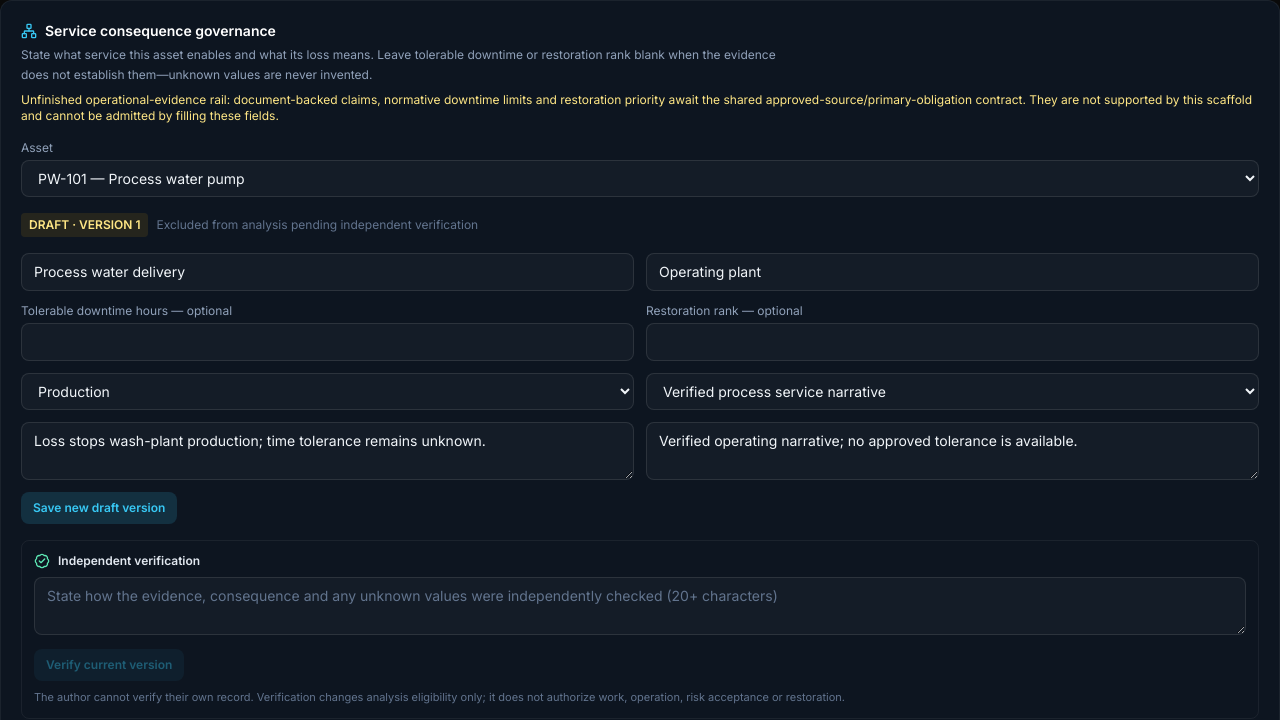
Test: ServiceLevelGovernancePanel › retains a known committed receipt rather than calling a refresh failure an unknown write
Expected: the text "Excluded from analysis pending independent verification" is shown, [156,217,478,233]
Expected: the field named "Service name" holds "Process water delivery", [21,253,634,291]
Replace the text in the text box named "Independent review note" with "Independent operations review against exact draft.": (640, 606) [34,577,1246,635]
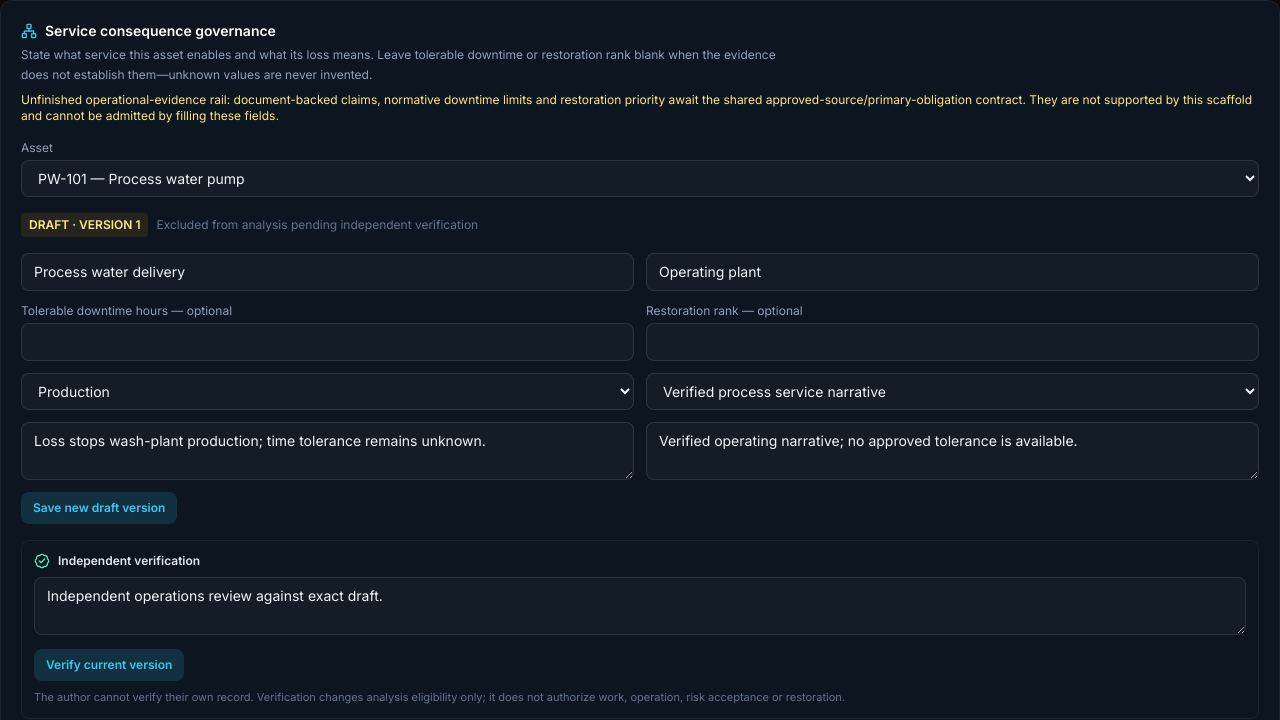
Click the button "Verify current version": (109, 665) [34,649,184,681]
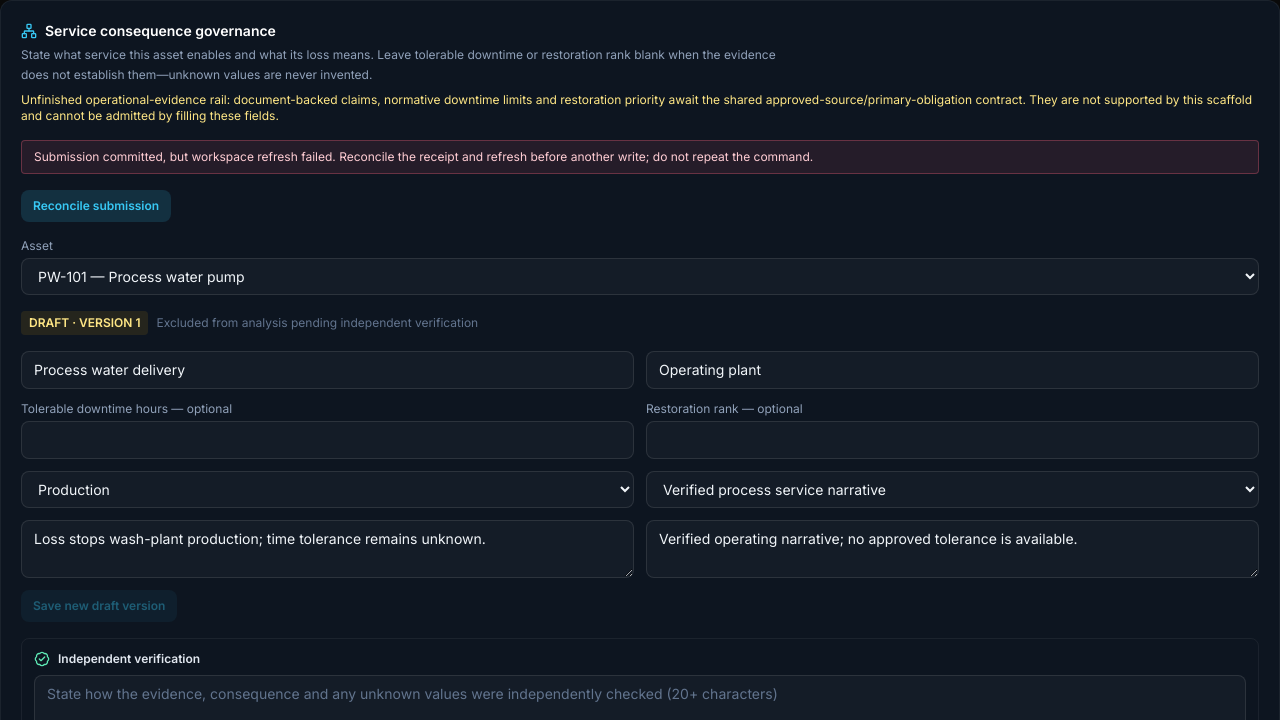
Expected: the button "Reconcile submission" is shown, [21,190,171,222]
